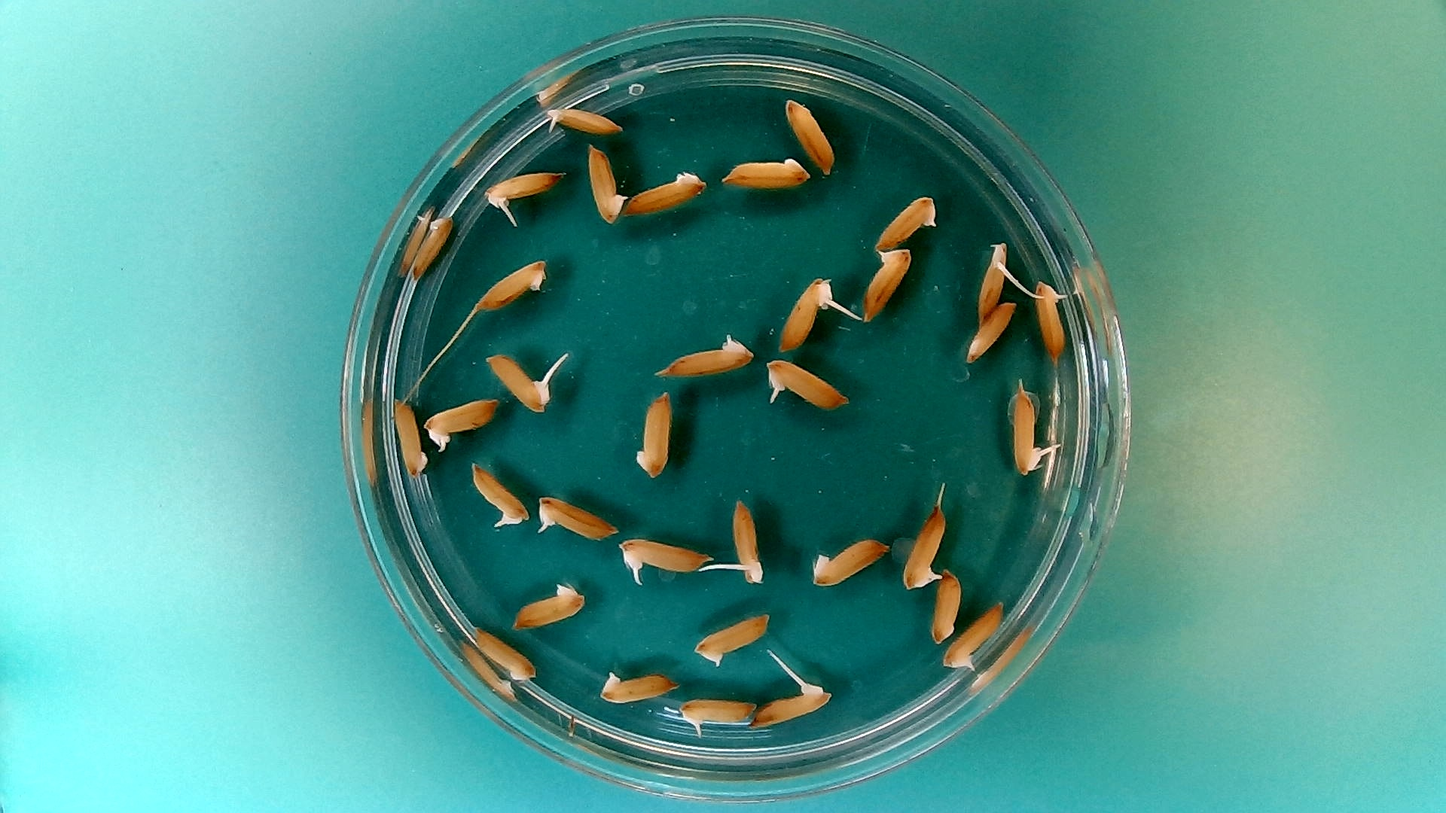no: (652, 330, 756, 379), (690, 608, 773, 668), (859, 242, 916, 324), (473, 255, 549, 312), (809, 534, 886, 590), (782, 98, 837, 176), (624, 166, 709, 216), (508, 578, 589, 630), (872, 190, 941, 251), (633, 386, 676, 481), (584, 140, 630, 226), (471, 627, 538, 683), (963, 297, 1017, 364), (718, 154, 813, 191), (391, 394, 429, 484), (596, 665, 680, 705), (409, 211, 456, 280), (929, 565, 964, 646)
yes: (776, 276, 837, 355), (942, 601, 1005, 674), (767, 359, 853, 411), (534, 492, 620, 542), (484, 349, 551, 413), (469, 460, 530, 530), (899, 504, 945, 592), (615, 537, 706, 581), (424, 394, 499, 447), (756, 682, 828, 730), (483, 169, 561, 211), (973, 241, 1011, 324), (728, 500, 767, 580), (1009, 389, 1043, 480), (675, 695, 758, 732), (541, 104, 630, 138), (1031, 284, 1069, 356)
